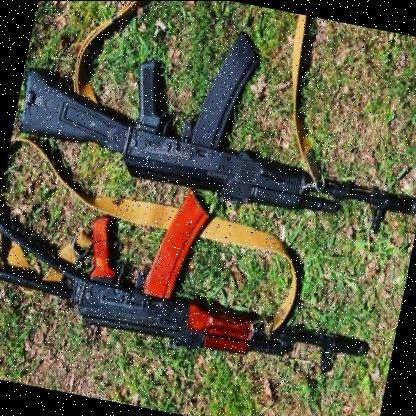rifle: (8, 6, 416, 236), (0, 160, 394, 383)
